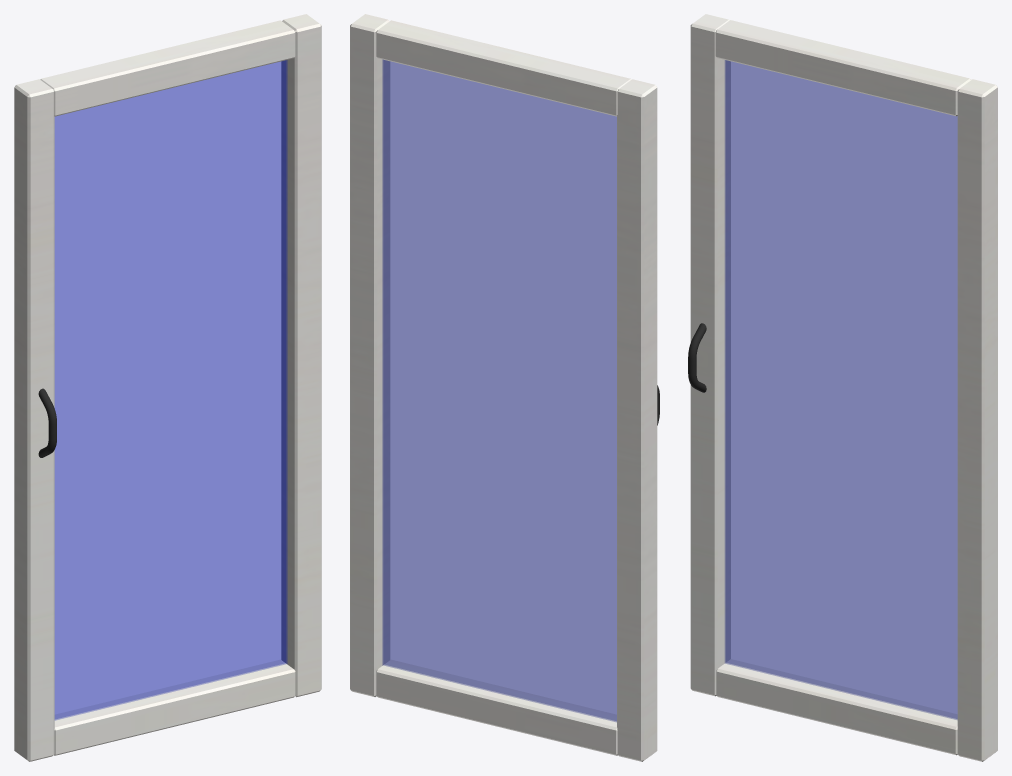
3 renders of one model, left to right at view 1: azimuth 30°, elevation 25°; view 2: azimuth 150°, elevation 25°; view 3: azimuth 330°, elevation 25°, orthographic.
Visible parts, largest first — view 1: Object070, Object043, Object072; view 2: Object070, Object043; view 3: Object070, Object043, Object072.
Boxes of the visible parts, x1,y1,x2,y2 form: Object070: (54, 60, 287, 720); Object043: (14, 14, 321, 761); Object072: (38, 388, 56, 457); Object070: (382, 60, 616, 721); Object043: (350, 14, 657, 761); Object070: (725, 60, 957, 719); Object043: (690, 14, 997, 761); Object072: (688, 323, 706, 392).
Bounding box in the file's own units: 438 × 950 × 72.94.
3 materials, 1 textured.
